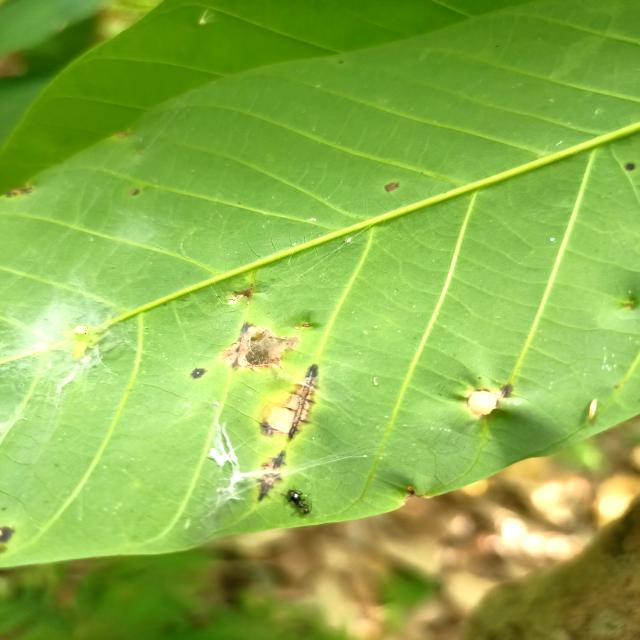Colletotrichum: (192, 367, 206, 379), (625, 163, 635, 171)
Corynespora: (287, 364, 319, 436), (256, 452, 286, 501)
Leaf-Blight: (222, 326, 299, 371), (264, 394, 302, 433)
